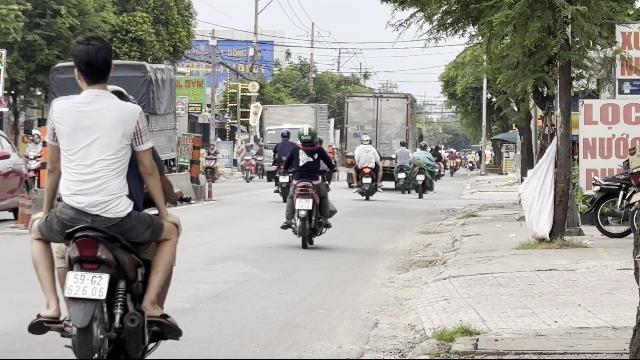helmet: (297, 126, 317, 144)
licenseplate: (66, 272, 108, 298), (296, 198, 312, 210)
motorcyclist: (21, 37, 189, 358), (278, 125, 338, 247)
nohelmet: (70, 36, 116, 92)
